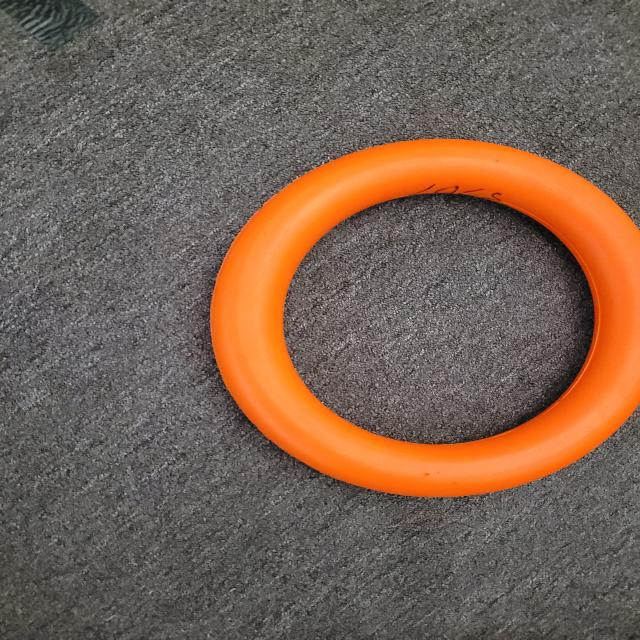note: (195, 125, 640, 516)
